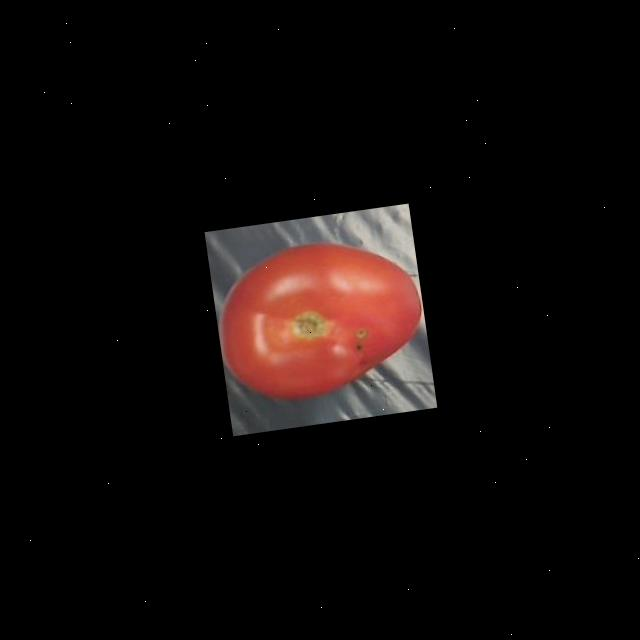tomato: (208, 226, 432, 410)
